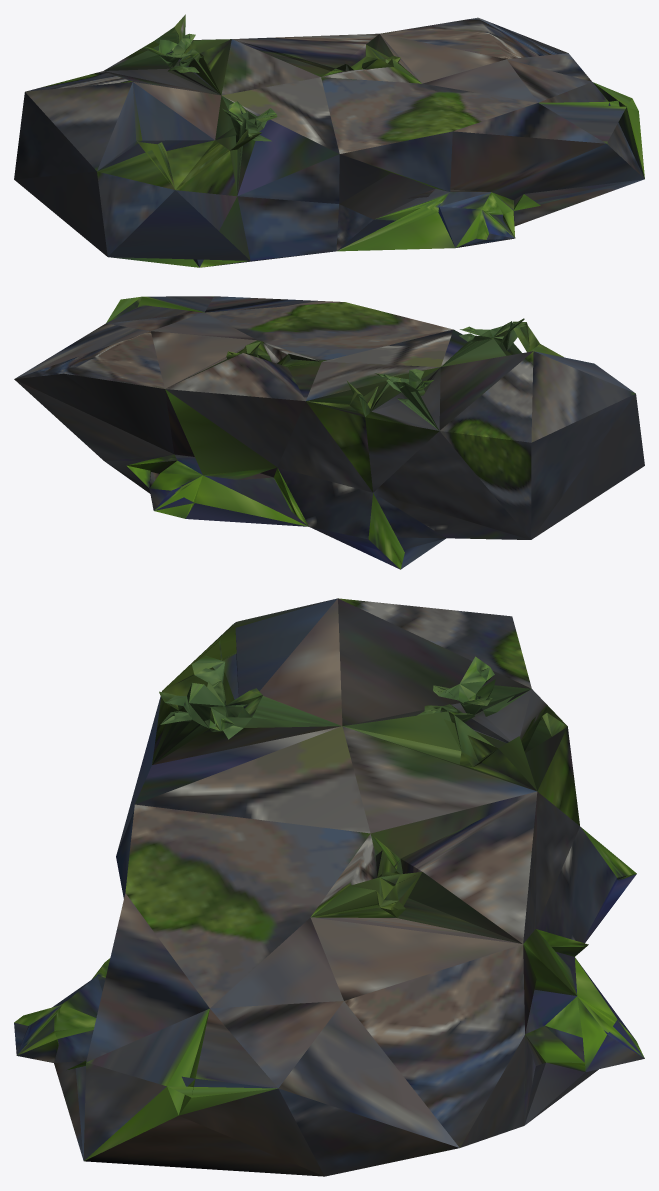
The picture shows the model from 3 angles, top to bottom: view 1: azimuth 30°, elevation 25°; view 2: azimuth 150°, elevation 25°; view 3: azimuth 270°, elevation 25°; orthographic projection. The views are drawn at different scales.
Visible parts, largest first — view 1: beach_rocks; view 2: beach_rocks; view 3: beach_rocks.
Part boxes in pixels (<box>): beach_rocks: <box>14,14,644,267</box>; beach_rocks: <box>14,296,644,569</box>; beach_rocks: <box>14,598,644,1176</box>.
Size of the model in its own units: 0.9468 by 0.2625 by 0.601.
1 material, 1 textured.
